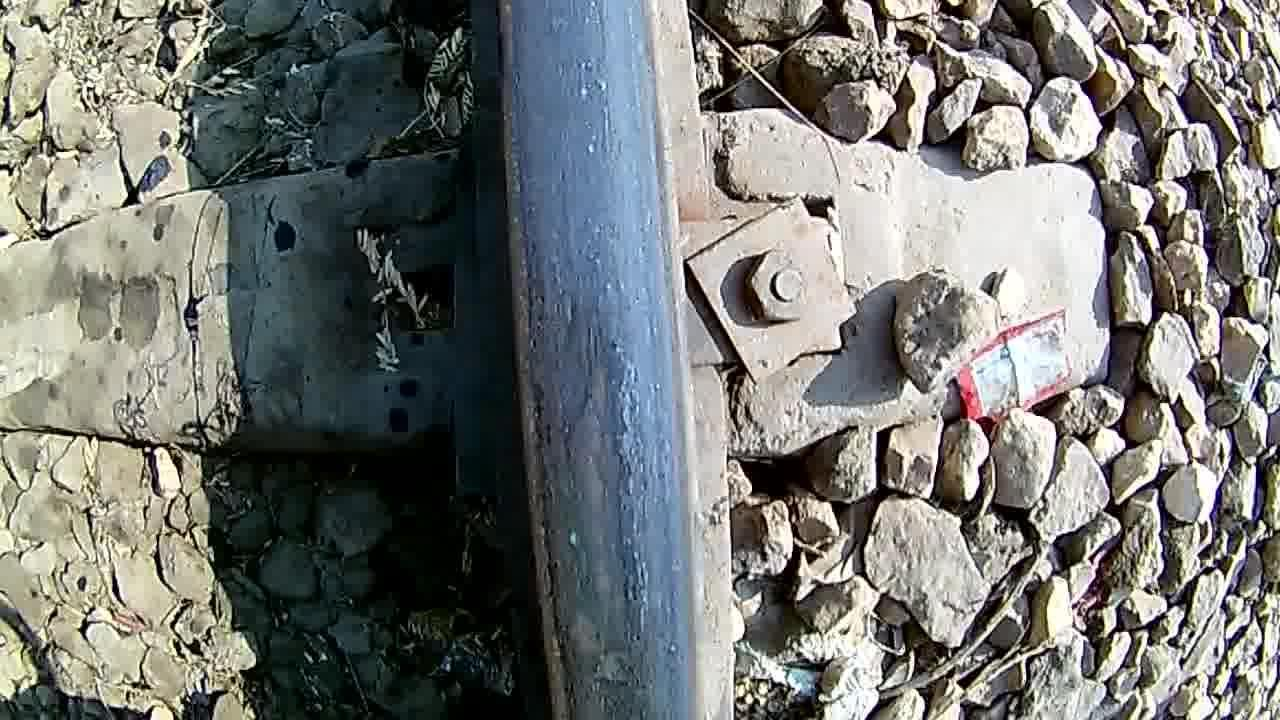crack: (516, 239, 679, 720)
